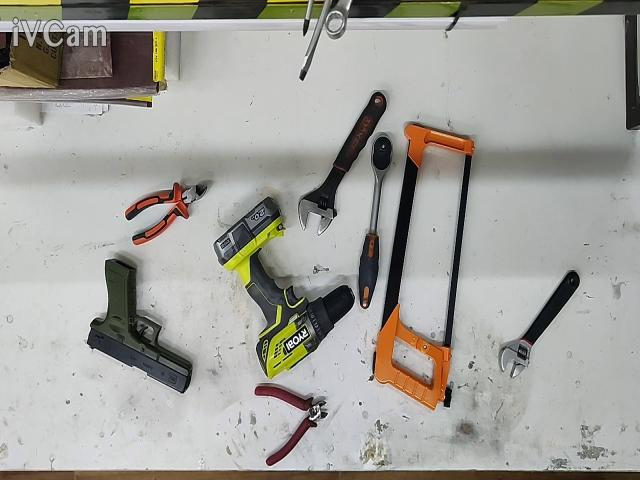Adjustable spanner: (299, 92, 386, 234), (500, 270, 580, 378)
Backsaw: (372, 123, 475, 410)
Cutting pliers: (255, 385, 328, 466), (125, 182, 208, 245)
Drill: (214, 197, 354, 378)
Gun: (88, 258, 192, 392)
Ratchet: (359, 133, 392, 308)
Wrench: (325, 0, 351, 40)
